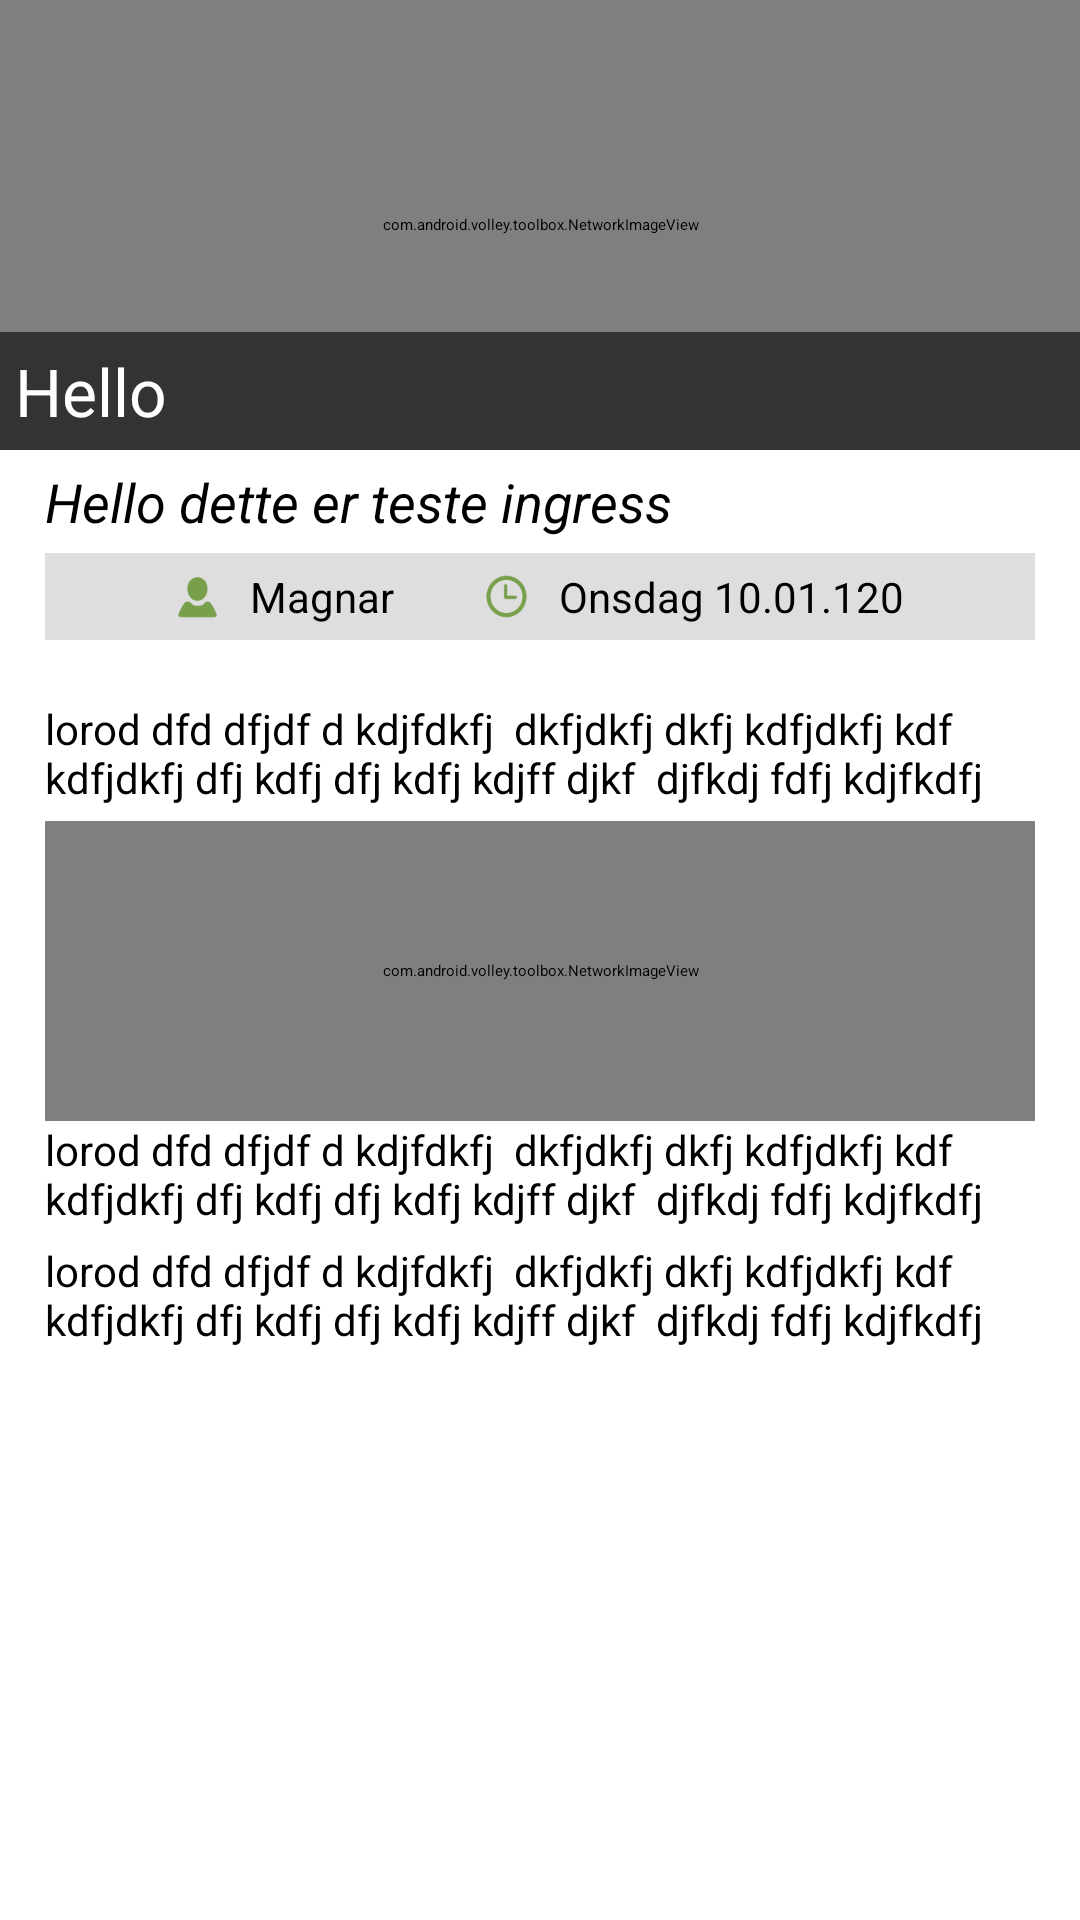

Point at icon controls on the screen. Image size 1080*1920, points as [x,y].
clock: [506,596]
person: [197,597]
